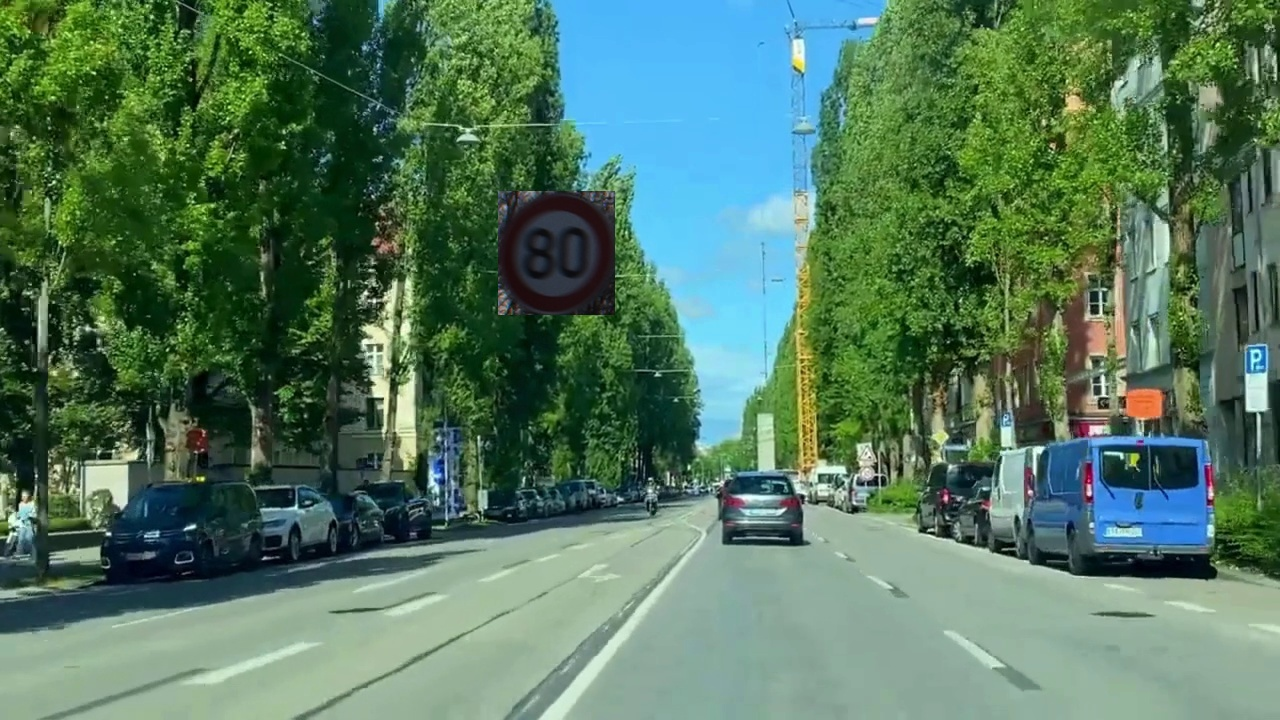Speed 80: (498, 191, 615, 315)
